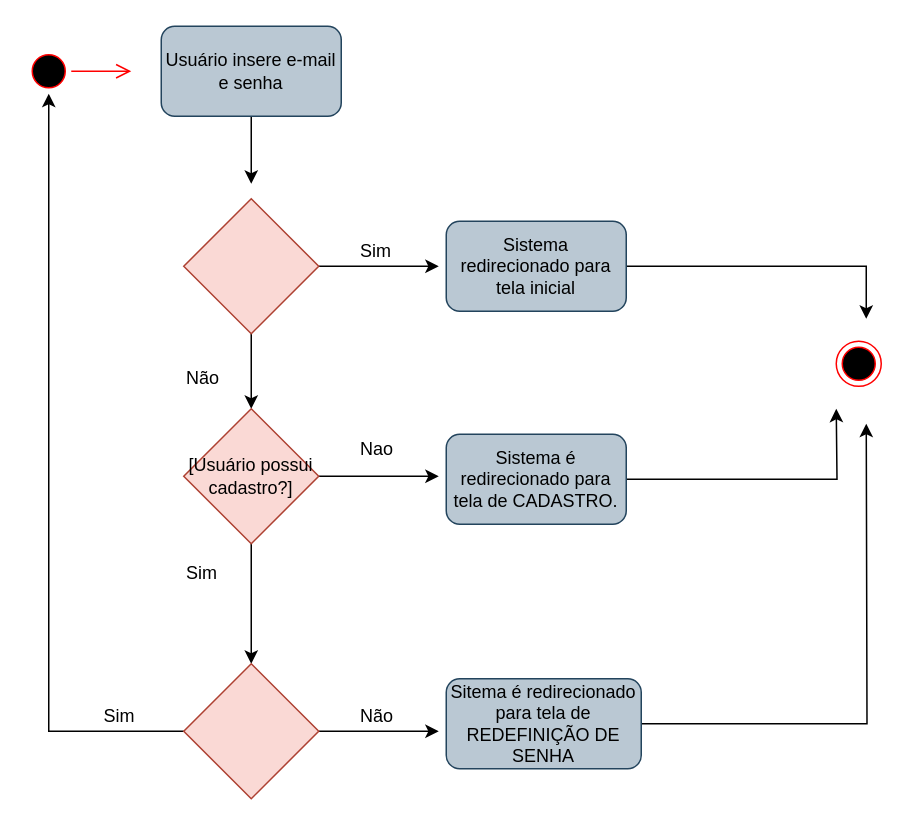
This 908x825 diagram has some shape labels left out. The box of each missing label's shape, as (x1, y1, x2, y2) in pixels:
[E-mail e senha são válidos?]: (182, 197, 319, 334)
[Usuário lembra e-,mail e senha?]: (182, 662, 319, 799)
